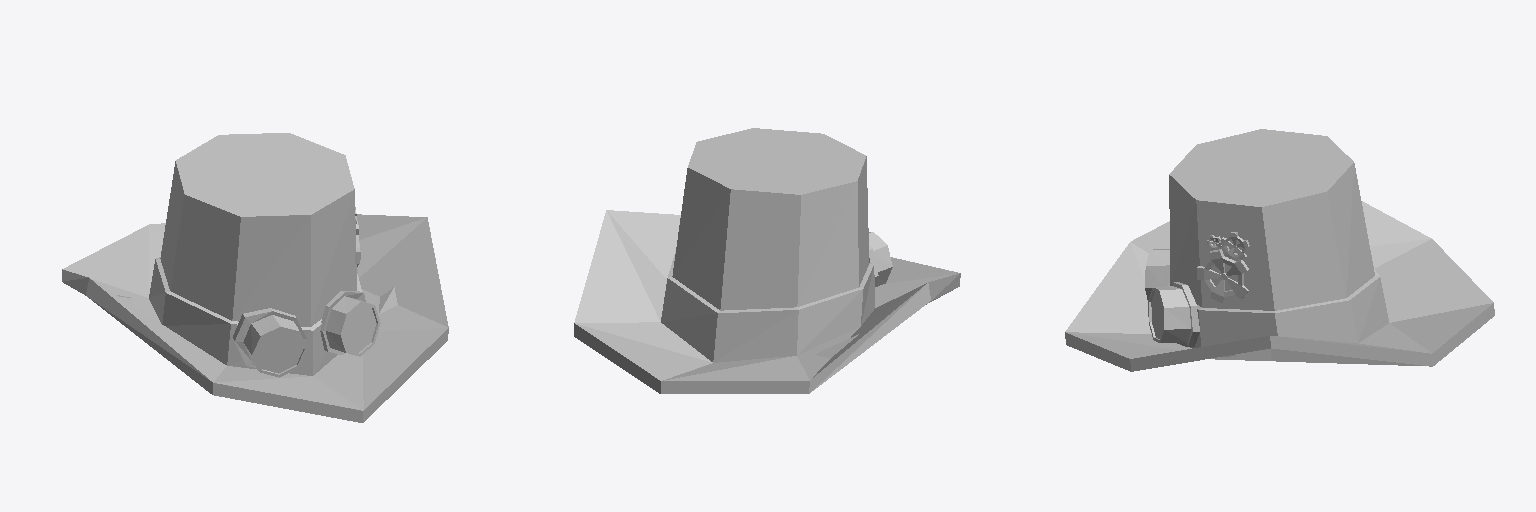
Rendered from Panda_Main.obj.
The picture shows the model from 3 angles: view 1: azimuth 30°, elevation 25°; view 2: azimuth 150°, elevation 25°; view 3: azimuth 270°, elevation 25°; orthographic projection.
Parts seen in each view (by area): view 1: Panda_Hat; view 2: Panda_Hat; view 3: Panda_Hat.
Part boxes in pixels (x1,y1,x2,y2): Panda_Hat: (62,133,448,422); Panda_Hat: (574,128,960,393); Panda_Hat: (1065,129,1494,371).
Bounding box in the file's own units: 4.68 × 2.52 × 5.23.